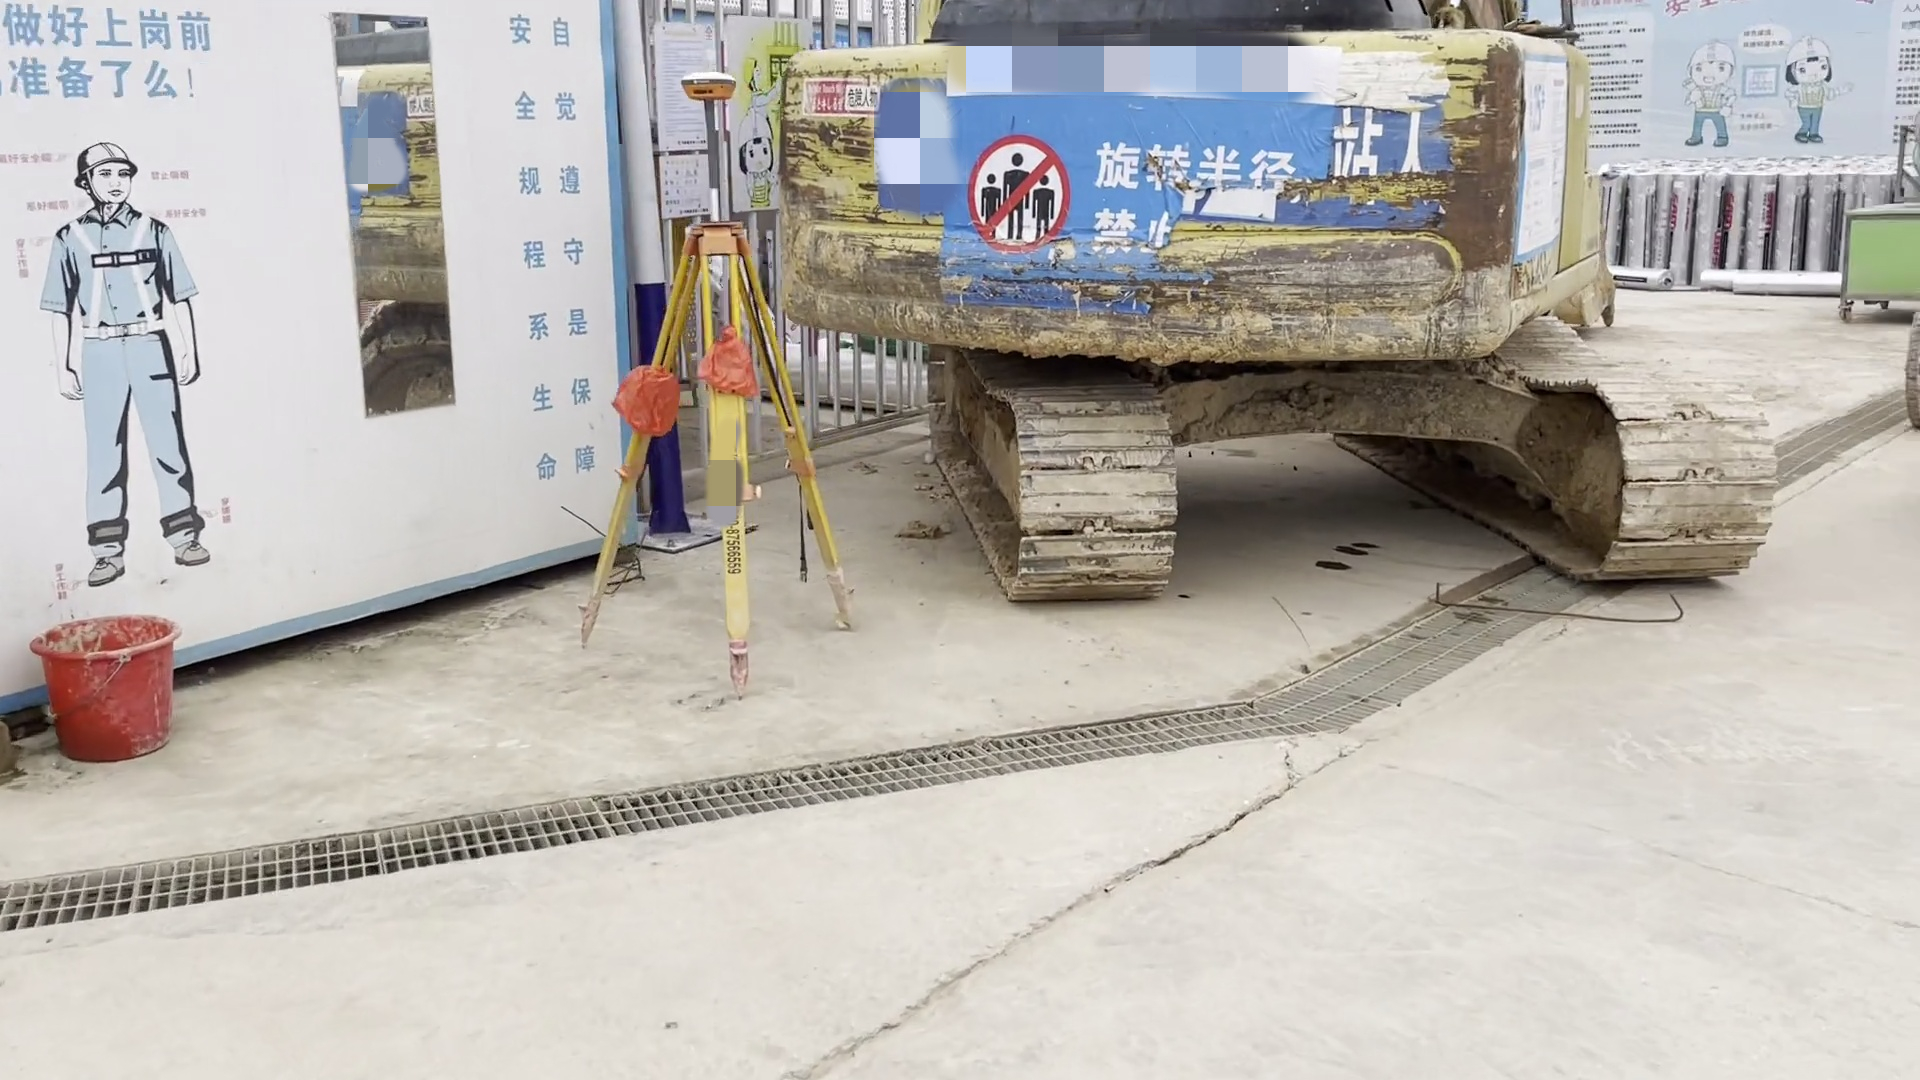slogan: (945, 92, 1280, 270)
